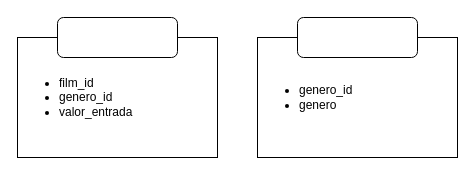
The diagram is 475 pixels wide and 175 high, and some of its shapes have lost their labels. The shapes that lost their labels are listed below. From the top down, each one's centre as x and y in pixels, then its label:
At point (117, 37): "Filme".
At point (357, 37): "Genero".
